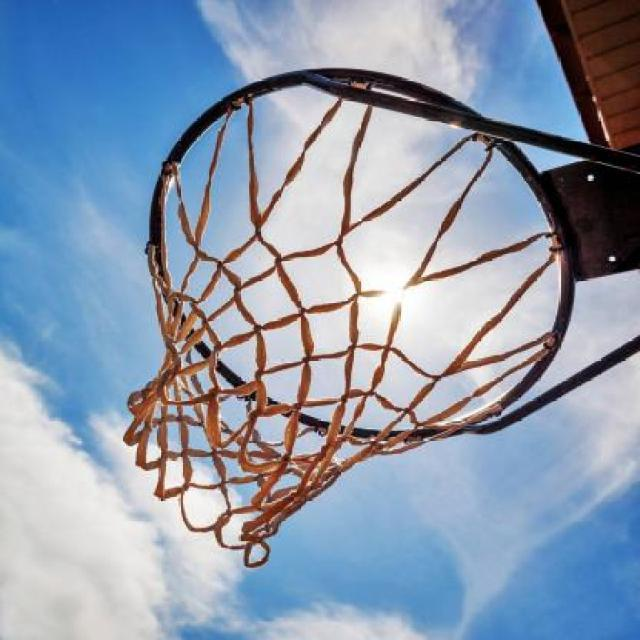rim: (132, 66, 572, 558)
